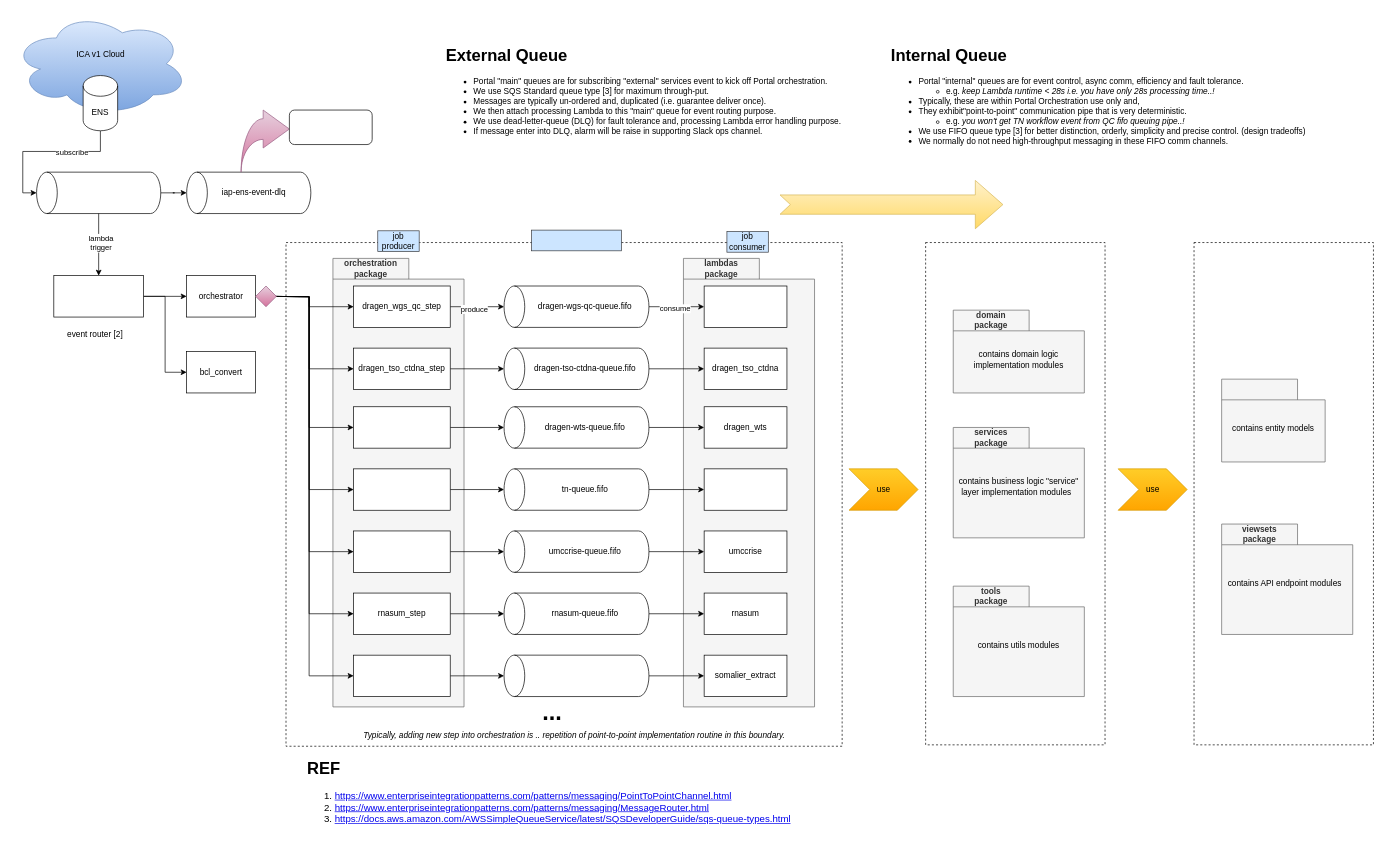
The diagram is 1386 pixels wide and 850 high, and some of its shapes have lost their labels. The shapes that lost their labels are listed below. From the top down, each one's centre as x and y in pixels, then its label:
At (x=330, y=127): "Slack Alert".
At (x=98, y=192): "iap-ens-event-queue".
At (x=891, y=204): "note: code dependency also goes from left to right".
At (x=576, y=240): "point-to-point [1]".
At (x=98, y=296): "sqs_iap_event".
At (x=745, y=306): "dragen_wgs_qc".
At (x=401, y=427): "dragen_wts_step".
At (x=1273, y=420): "models package".
At (x=401, y=489): "tumor_normal_step".
At (x=745, y=489): "tumor_normal".
At (x=401, y=551): "umccrise_step".
At (x=401, y=675): "somalier_extract_step".
At (x=576, y=675): "somalier_extract-queue.fifo".
